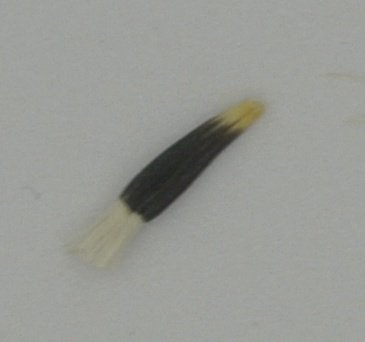เมล็ดดีติดกัน: (63, 97, 266, 274)
